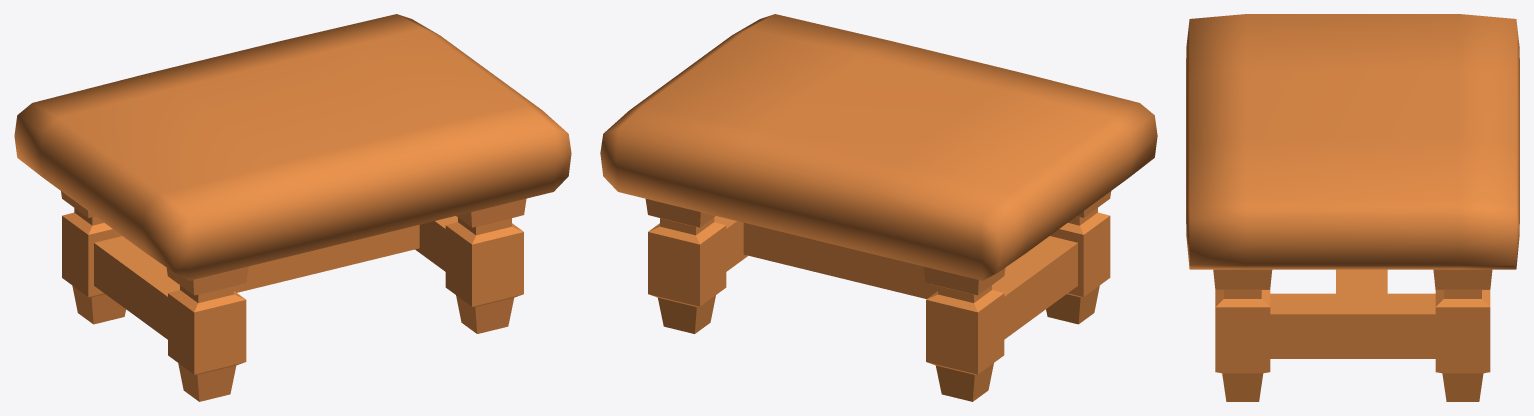
The model's file is Coffee_Table.fbx.
3 views of the same model, side by side, from view 1: azimuth 30°, elevation 25°; view 2: azimuth 150°, elevation 25°; view 3: azimuth 270°, elevation 25° (orthographic). The views are drawn at different scales.
Parts seen in each view (by area): view 1: Cube.004, Cube.001; view 2: Cube.004, Cube.001; view 3: Cube.004, Cube.001.
Part boxes in pixels (<box>): Cube.004: <box>14,14,571,339</box>; Cube.001: <box>61,191,526,401</box>; Cube.004: <box>600,14,1157,339</box>; Cube.001: <box>645,191,1111,401</box>; Cube.004: <box>1186,14,1519,358</box>; Cube.001: <box>1213,269,1492,401</box>.
Bounding box in the file's own units: 123 × 61.26 × 84.89.
